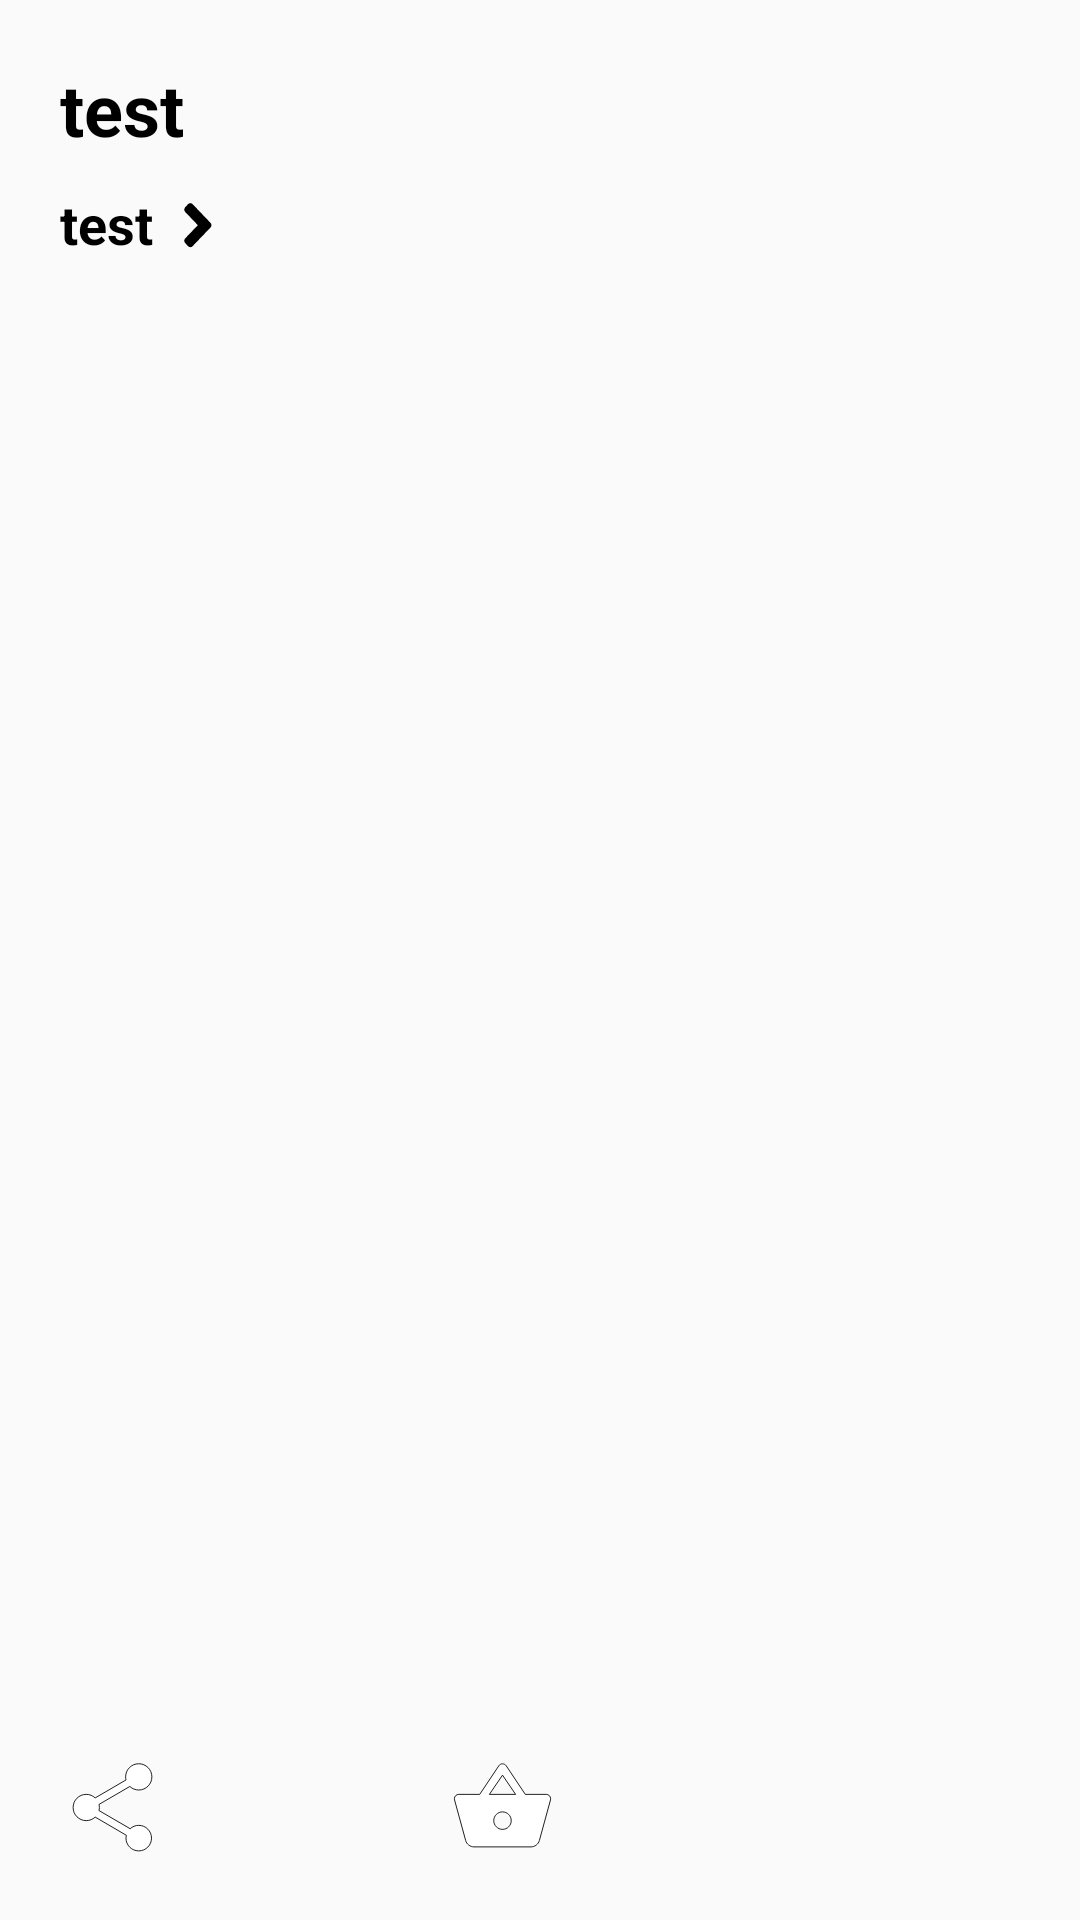

Locate icon controls on the screen. Image size 1080 × 1920, boxes as [x1=x1, y1=y1, x2=x2, y2=y2].
navbar forward: [x1=184, y1=203, x2=212, y2=248]
share: [x1=72, y1=1763, x2=153, y2=1852]
shopping basket: [x1=454, y1=1763, x2=551, y2=1848]
